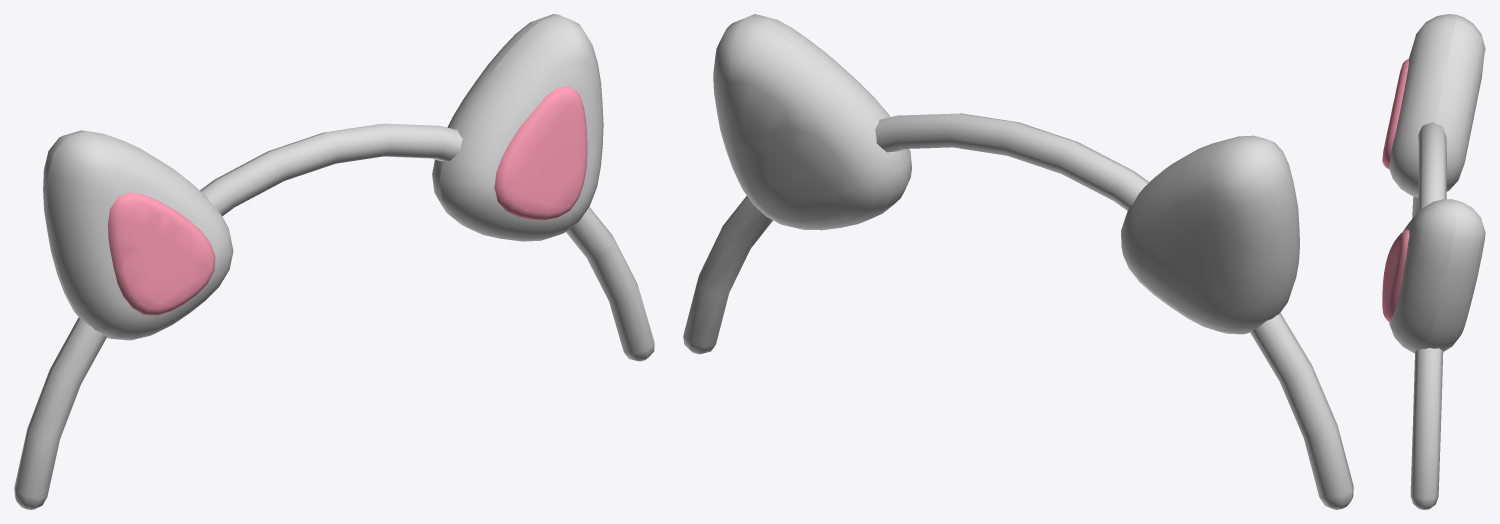
File: cat_ears.glb
The picture shows the model from 3 angles, left to right: view 1: azimuth 30°, elevation 25°; view 2: azimuth 150°, elevation 25°; view 3: azimuth 270°, elevation 25°; orthographic projection. The views are drawn at different scales.
Visible parts, largest first — view 1: cat_ears; view 2: cat_ears; view 3: cat_ears.
Boxes of the visible parts, <box> form: cat_ears: <box>14,14,654,509</box>; cat_ears: <box>683,14,1353,509</box>; cat_ears: <box>1382,14,1485,509</box>.
Size of the model in its own units: 1.09 by 0.5686 by 0.1908.
